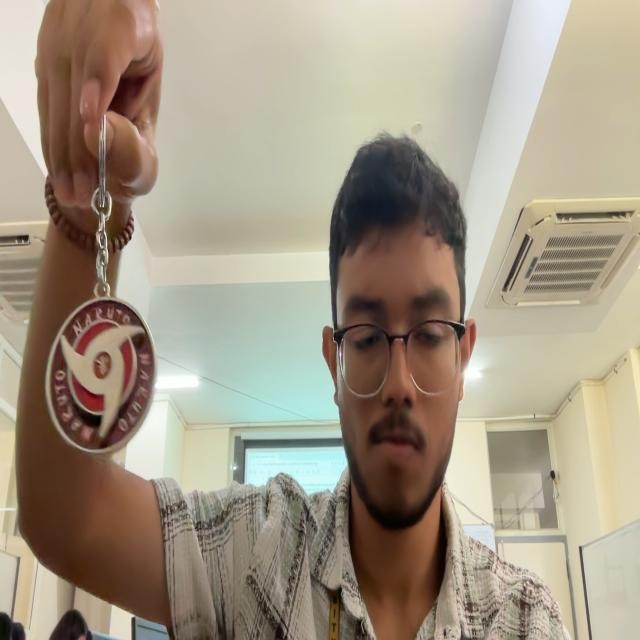dangerous: (45, 116, 157, 453)
